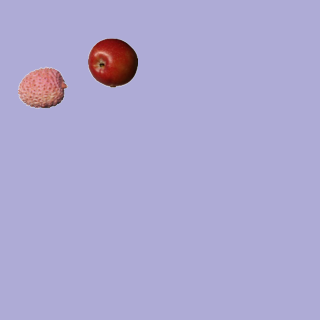Apple Braeburn: (87, 37, 137, 87)
Lychee: (17, 62, 67, 112)
